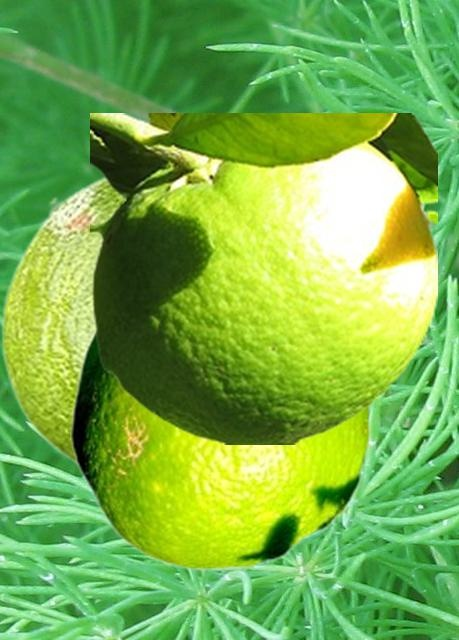dalandan: (90, 113, 436, 443), (70, 329, 370, 570), (0, 175, 122, 466)
